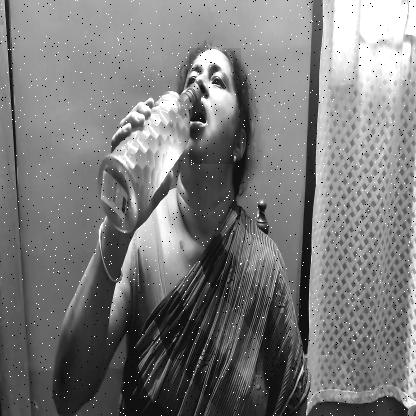Distracted: (189, 48, 241, 164)
